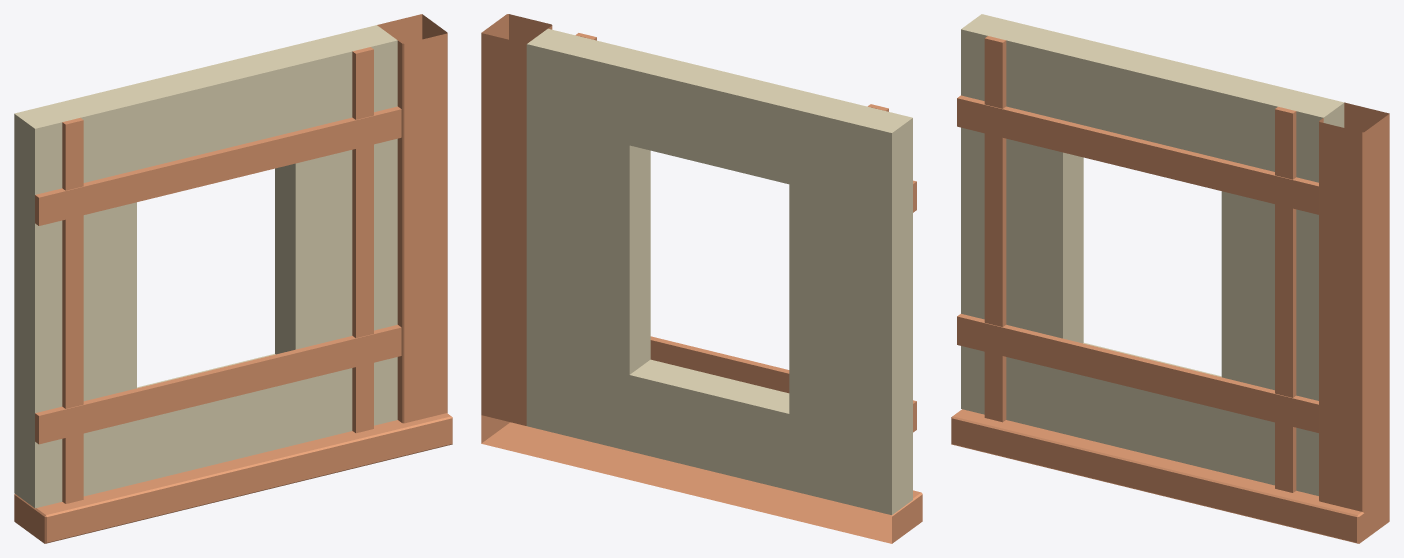
The model's file is Wall10_window_small_low.fbx.
3 renders of one model, left to right at view 1: azimuth 30°, elevation 25°; view 2: azimuth 150°, elevation 25°; view 3: azimuth 330°, elevation 25°, orthographic.
Visible parts, largest first — view 1: Wall10_window_small_low, Wall10_window_woodframe1_low, Wall10_window_woodplank1_low; view 2: Wall10_window_small_low, Wall10_window_woodplank1_low, Wall10_window_woodframe1_low; view 3: Wall10_window_small_low, Wall10_window_woodplank1_low, Wall10_window_woodframe1_low.
Part boxes in pixels (x1,y1,x2,y2): Wall10_window_small_low: (14,25,397,508); Wall10_window_woodframe1_low: (35,47,401,503); Wall10_window_woodplank1_low: (14,14,452,543); Wall10_window_small_low: (526,28,912,515); Wall10_window_woodplank1_low: (481,14,922,543); Wall10_window_woodframe1_low: (575,33,916,432); Wall10_window_small_low: (961,14,1344,495); Wall10_window_woodplank1_low: (951,102,1389,543); Wall10_window_woodframe1_low: (957,36,1318,492).
Size of the model in its own units: 450 by 430 by 60.
